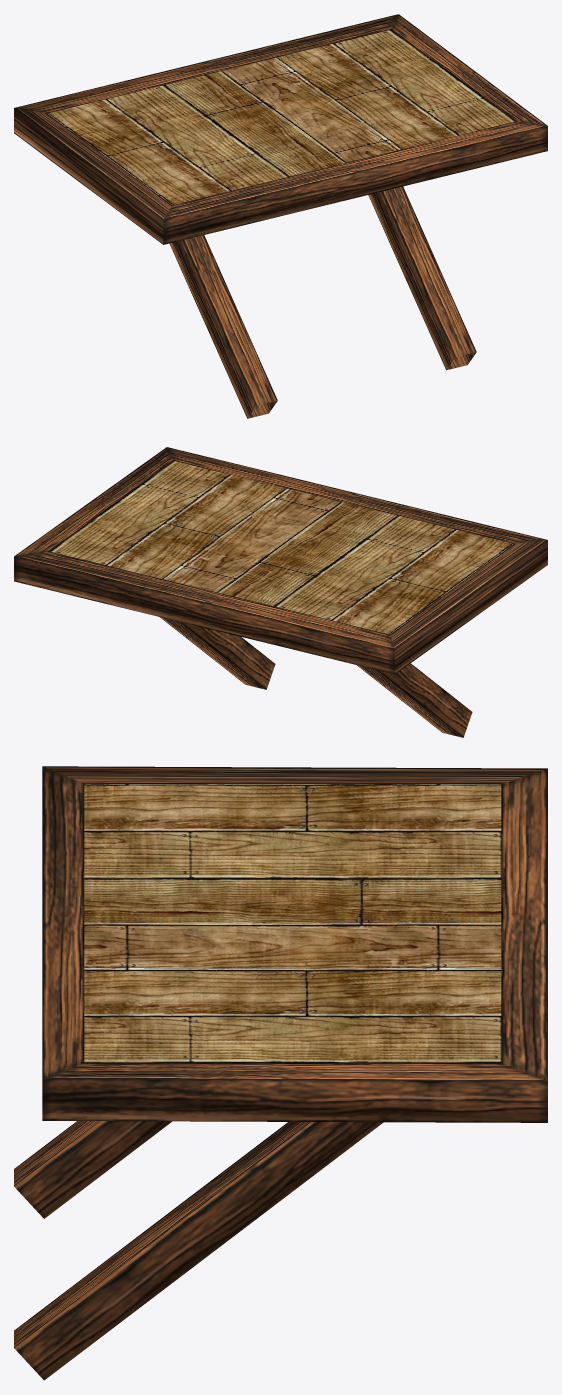
File: LAKETOWN_WAREHOUSE3_PS_WH3_PLATFORN84847__GX.fbx
The picture shows the model from 3 angles, top to bottom: view 1: azimuth 30°, elevation 25°; view 2: azimuth 150°, elevation 25°; view 3: azimuth 270°, elevation 25°; orthographic projection. The views are drawn at different scales.
Visible parts, largest first — view 1: LAKETOWN_WAREHOUSE3_PS_WH3_PLATFORN84847__GX; view 2: LAKETOWN_WAREHOUSE3_PS_WH3_PLATFORN84847__GX; view 3: LAKETOWN_WAREHOUSE3_PS_WH3_PLATFORN84847__GX.
Boxes of the visible parts, x1=… form: LAKETOWN_WAREHOUSE3_PS_WH3_PLATFORN84847__GX: x1=14, y1=14, x2=547, y2=418; LAKETOWN_WAREHOUSE3_PS_WH3_PLATFORN84847__GX: x1=14, y1=447, x2=547, y2=737; LAKETOWN_WAREHOUSE3_PS_WH3_PLATFORN84847__GX: x1=14, y1=766, x2=547, y2=1380.
Bounding box in the file's own units: 31477 × 17101 × 22577.
2 materials, 2 textured.
